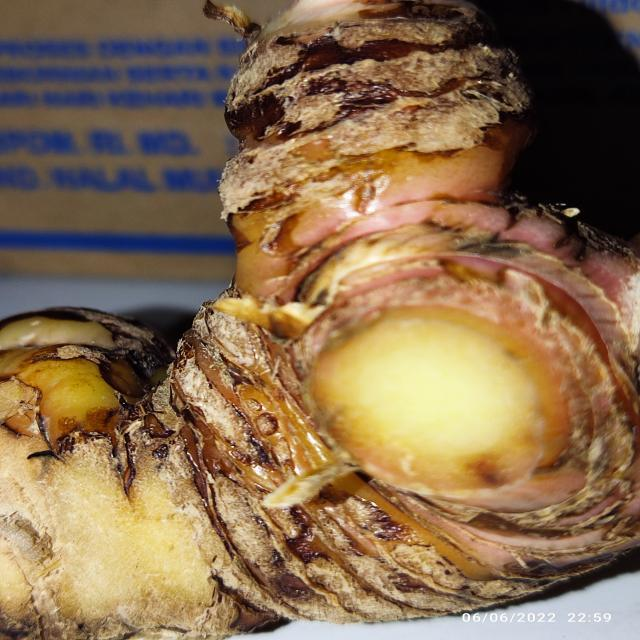ginger: (26, 11, 640, 572)
